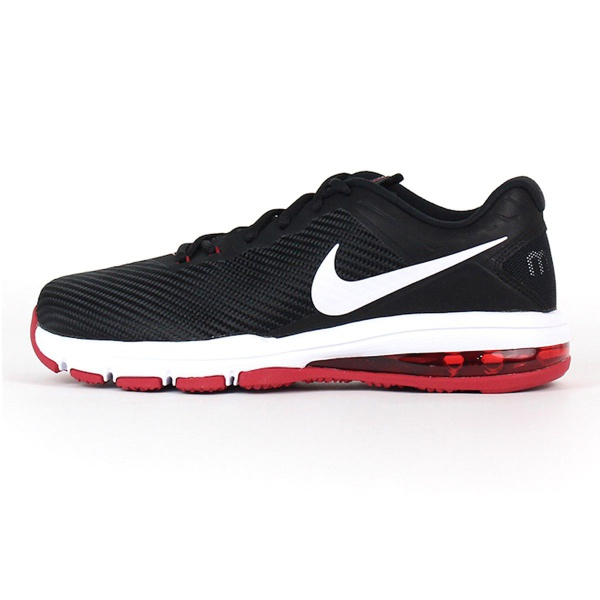nike: (307, 234, 518, 317)
